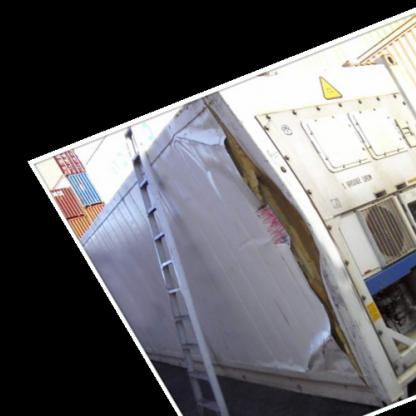Damage: (204, 123, 342, 381)
